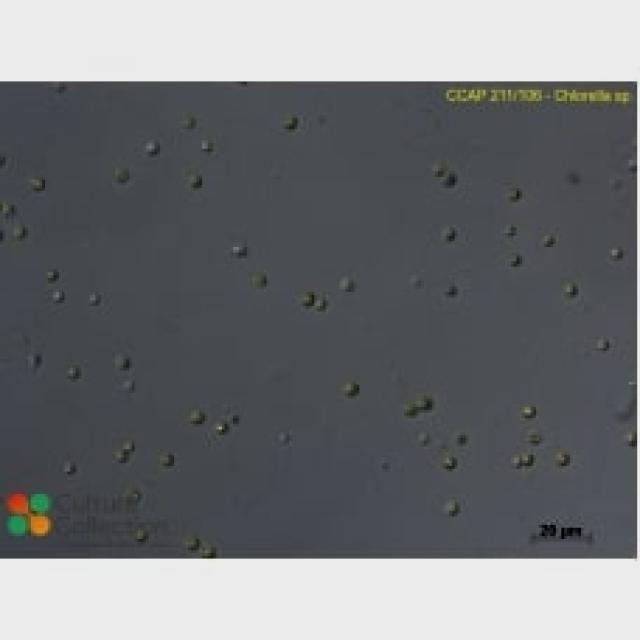Green Algae: (429, 166, 455, 188), (500, 180, 522, 205), (561, 275, 581, 298), (8, 222, 31, 241), (109, 351, 132, 370), (438, 222, 460, 241), (252, 269, 270, 292), (157, 446, 177, 466), (416, 390, 435, 410), (112, 163, 129, 185), (556, 446, 572, 469), (188, 168, 205, 188), (339, 275, 356, 295), (444, 494, 461, 514), (230, 239, 247, 258), (112, 444, 129, 461), (508, 452, 525, 469), (542, 227, 556, 247), (146, 138, 160, 157), (343, 382, 362, 396), (188, 407, 202, 424), (598, 334, 612, 351), (440, 452, 454, 469), (84, 292, 101, 306), (185, 536, 202, 550), (519, 404, 536, 416), (28, 174, 42, 188), (300, 289, 312, 303), (42, 267, 56, 278), (53, 286, 62, 298)
